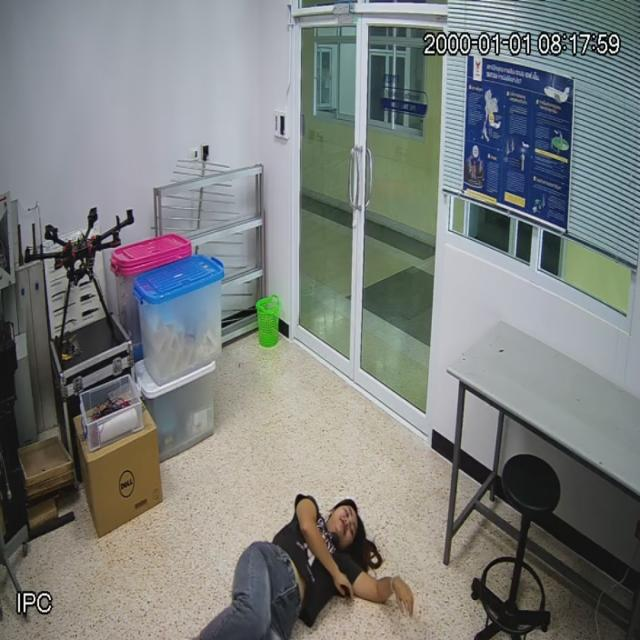fall: (198, 495, 412, 640)
